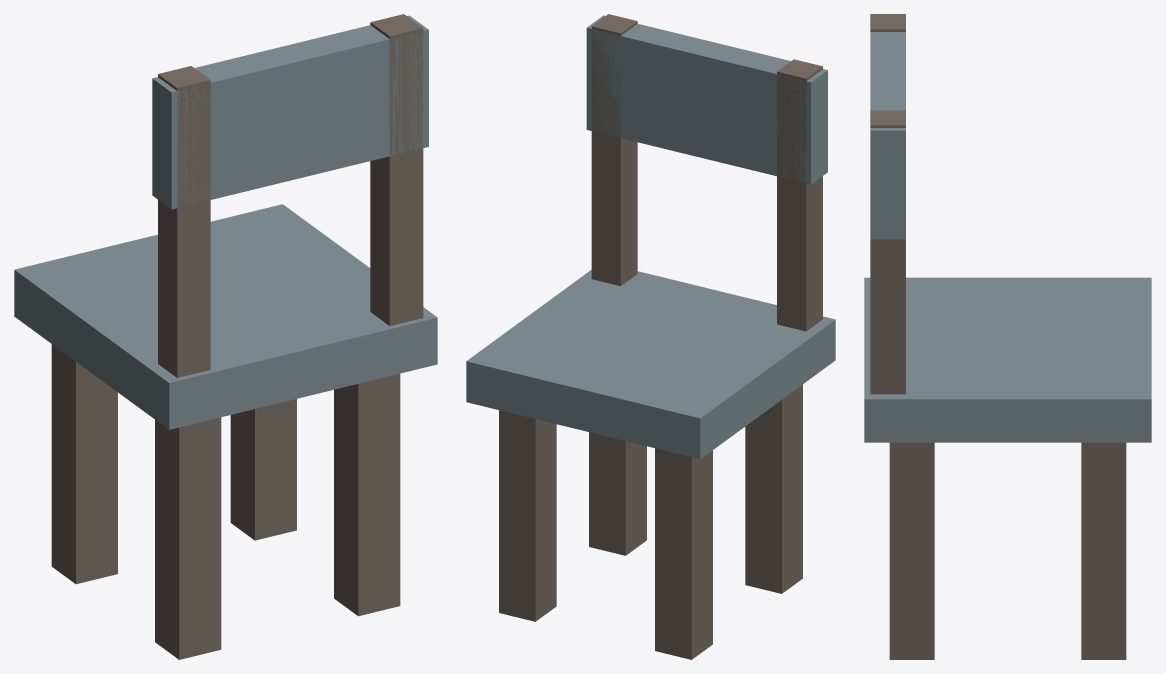
File: chair_padded.glb
The picture shows the model from 3 angles, left to right: view 1: azimuth 30°, elevation 25°; view 2: azimuth 150°, elevation 25°; view 3: azimuth 270°, elevation 25°; orthographic projection. The views are drawn at different scales.
Parts seen in each view (by area): view 1: body; view 2: body; view 3: body.
Part boxes in pixels (x1,y1,x2,y2): body: (14, 14, 437, 659); body: (466, 14, 835, 659); body: (864, 14, 1151, 659).
Bounding box in the file's own units: 0.48 × 0.995 × 0.48.
